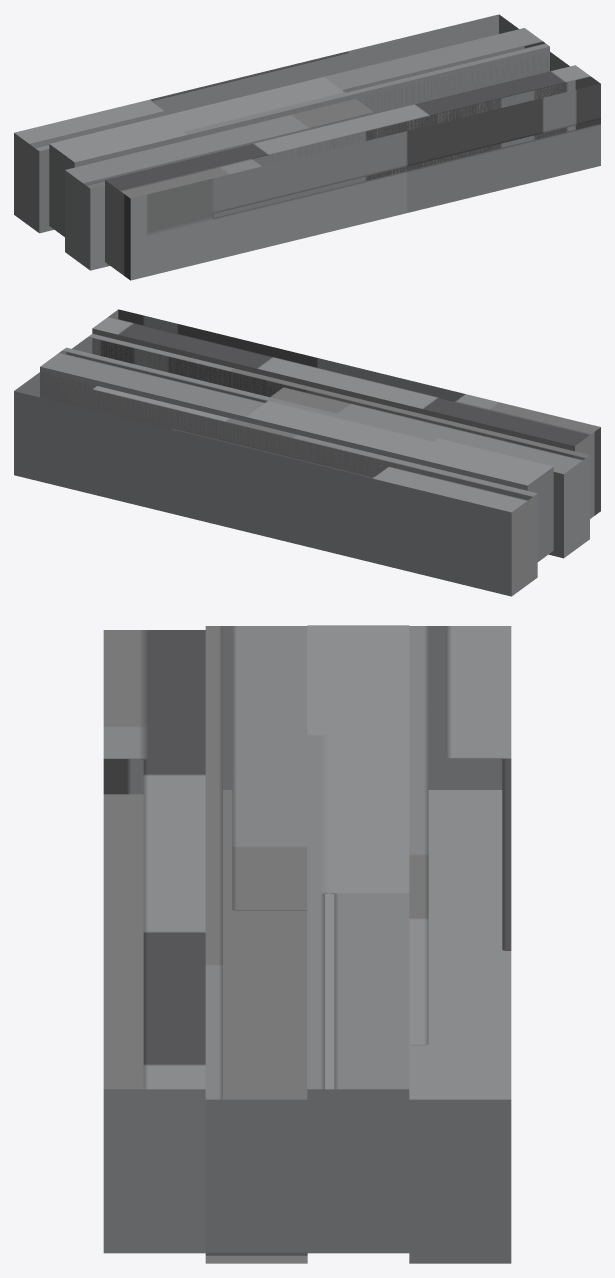
3 views of the same model, one above another, from view 1: azimuth 30°, elevation 25°; view 2: azimuth 150°, elevation 25°; view 3: azimuth 270°, elevation 25° (orthographic). The views are drawn at different scales.
Bounding box in the file's own units: 0.9108 × 0.1564 × 0.3312.
